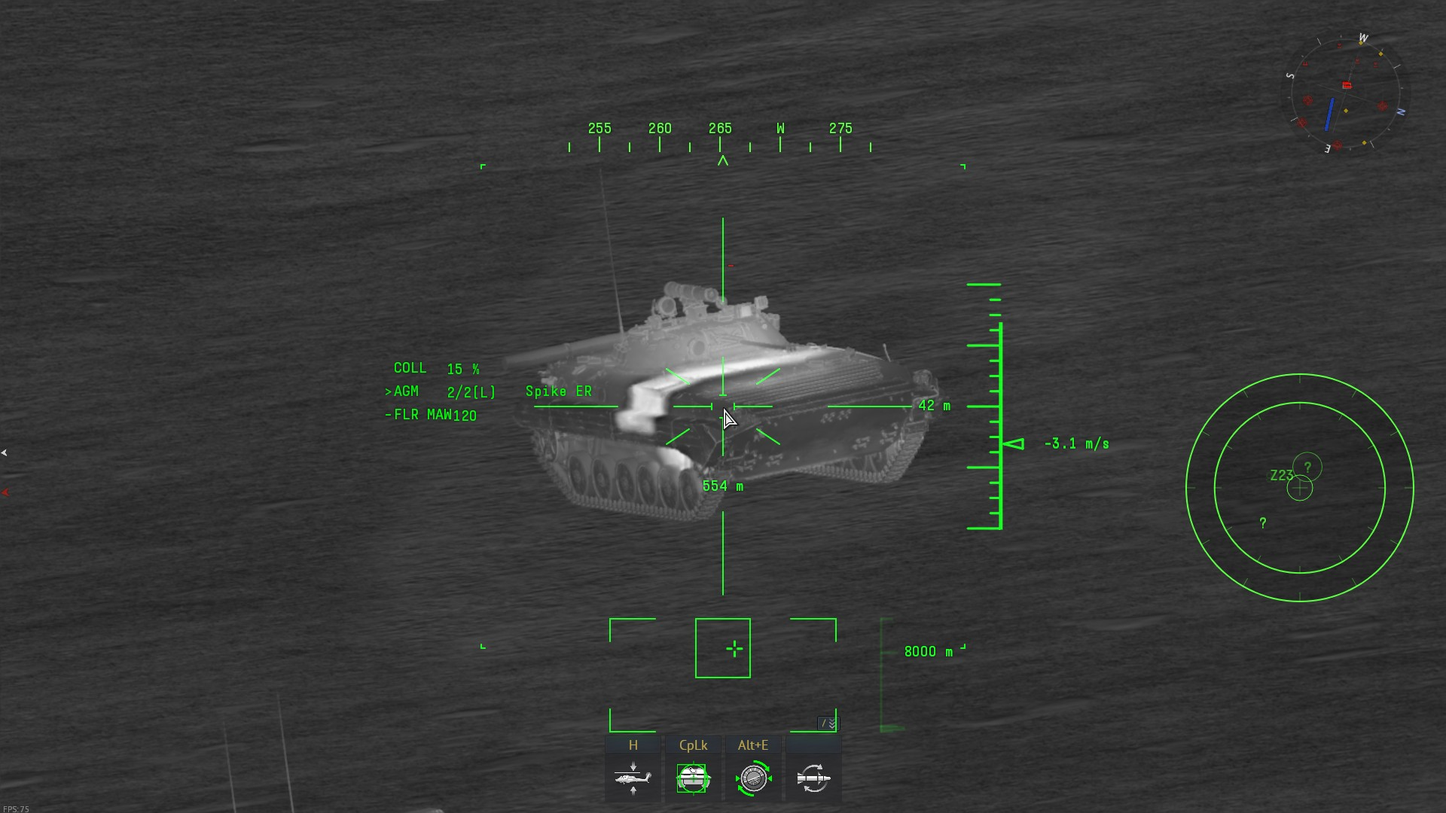bmp2: (499, 281, 944, 518)
